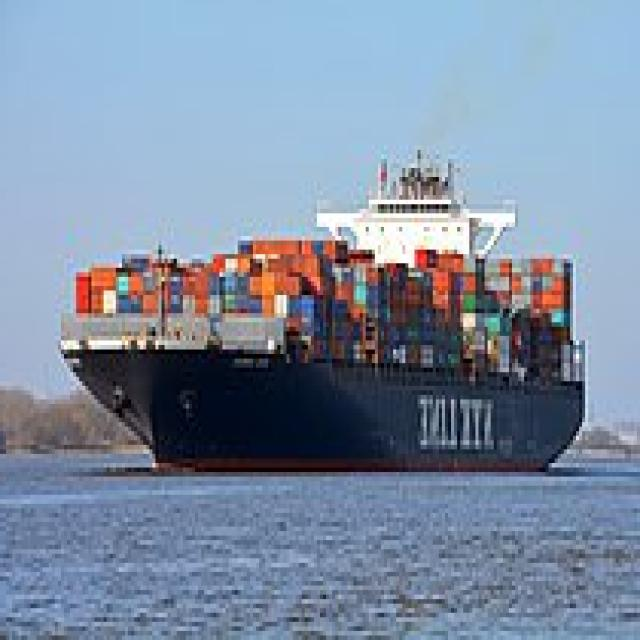Cargo: (61, 136, 591, 472)
